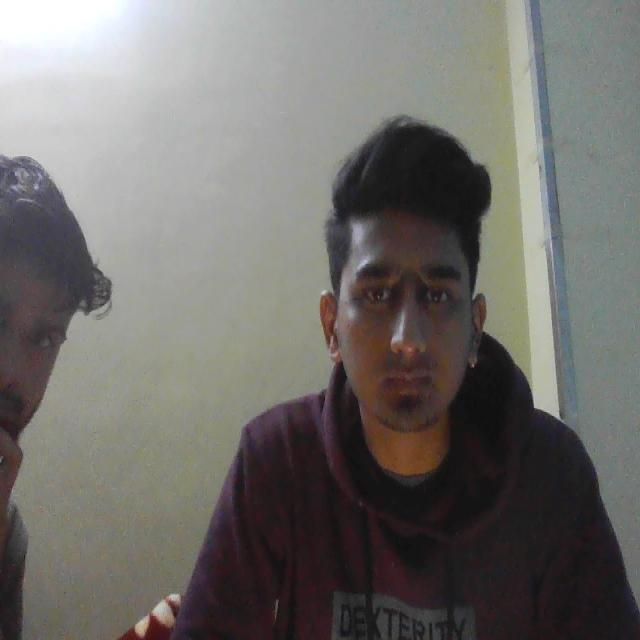real: (321, 134, 495, 462)
